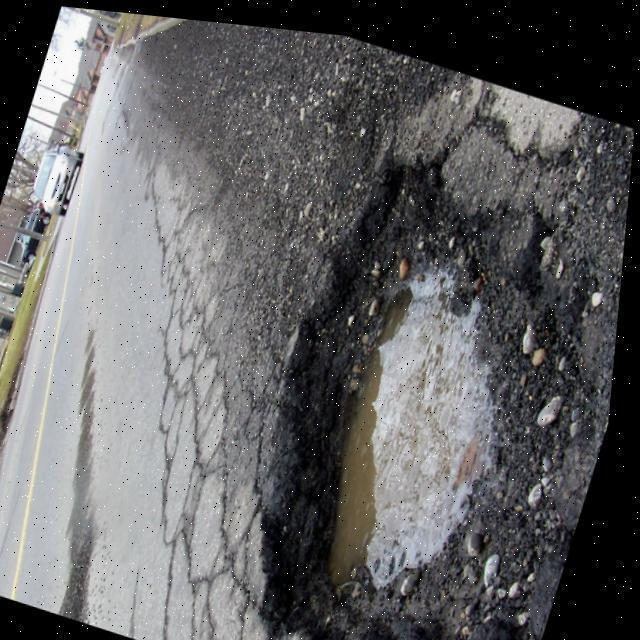Pothole: (269, 136, 609, 640), (466, 62, 581, 187)
